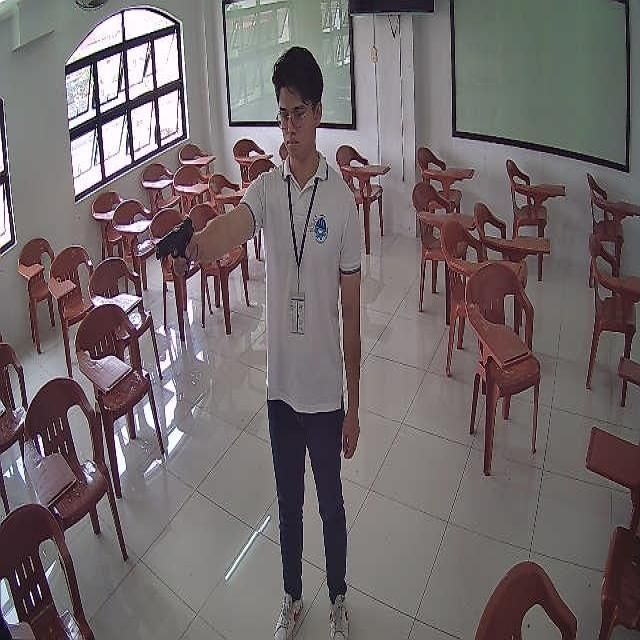pistol: (157, 217, 192, 260)
